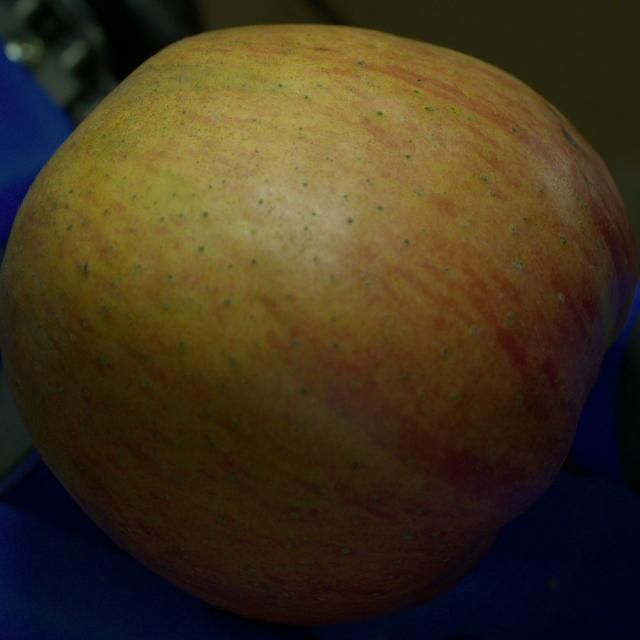apple: (0, 24, 639, 623)
